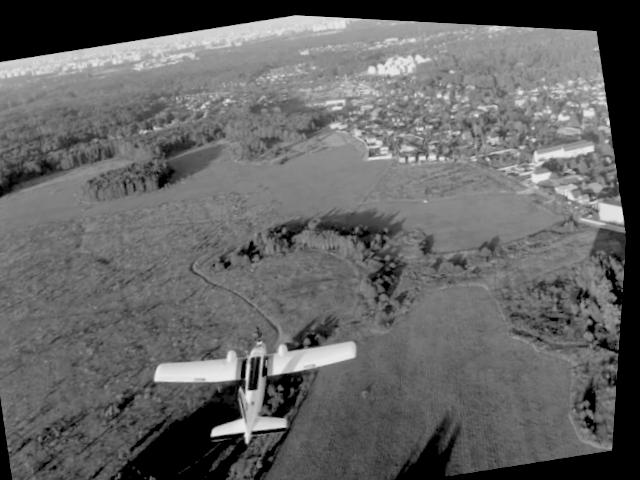hedef: (132, 296, 391, 476)
